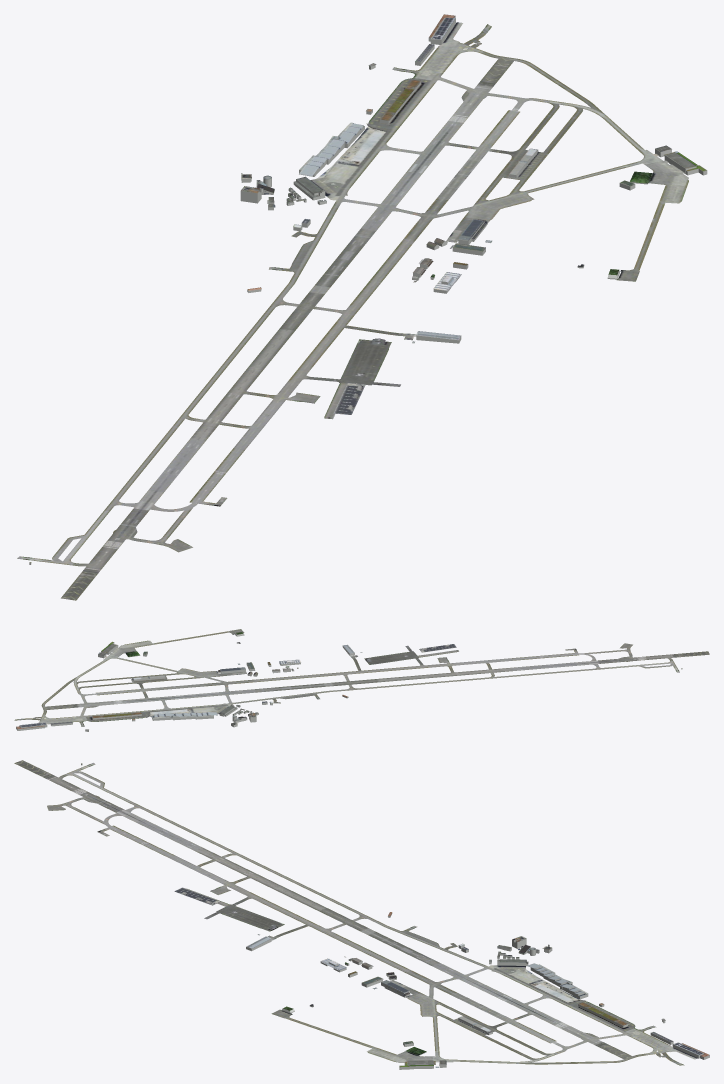
The model's file is LSMP_Airport.glb.
3 renders of one model, top to bottom at view 1: azimuth 30°, elevation 25°; view 2: azimuth 150°, elevation 25°; view 3: azimuth 270°, elevation 25°, orthographic. The views are drawn at different scales.
Visible parts, largest first — view 1: pavement_LSMP_pavement_5121_2377, pavement_LSMP_pavement_5119_2375, pavement_LSMP_pavement_5120_2376, pavement_LSMP_pavement_5122_2378, pavement_LSMP_pavement_5122_2377, pavement_LSMP_pavement_5118_2374, pavement_LSMP_pavement_5120_2375, pavement_LSMP_pavement_5122_2376, pavement_LSMP_pavement_5121_2376, pavement_LSMP_pavement_5118_2375, pavement_LSMP_pavement_5121_2378, pavement_LSMP_pavement_5117_2374 (+1 smaller); view 2: pavement_LSMP_pavement_5121_2377, pavement_LSMP_pavement_5119_2375, pavement_LSMP_pavement_5120_2376, pavement_LSMP_pavement_5122_2377, pavement_LSMP_pavement_5122_2378, pavement_LSMP_pavement_5118_2374, pavement_LSMP_pavement_5120_2375, pavement_LSMP_pavement_5121_2376, pavement_LSMP_pavement_5118_2375, pavement_LSMP_pavement_5122_2376, pavement_LSMP_pavement_5117_2374, building_80550ab6e0292526 (+4 smaller); view 3: pavement_LSMP_pavement_5121_2377, pavement_LSMP_pavement_5120_2376, pavement_LSMP_pavement_5119_2375, pavement_LSMP_pavement_5122_2378, pavement_LSMP_pavement_5122_2377, pavement_LSMP_pavement_5118_2374, pavement_LSMP_pavement_5120_2375, pavement_LSMP_pavement_5118_2375, pavement_LSMP_pavement_5122_2376, pavement_LSMP_pavement_5121_2376, pavement_LSMP_pavement_5117_2374, pavement_LSMP_pavement_5121_2378.
Part boxes in pixels (x1=…): pavement_LSMP_pavement_5121_2377: x1=310, y1=116, x2=549, y2=234; pavement_LSMP_pavement_5119_2375: x1=165, y1=361, x2=343, y2=477; pavement_LSMP_pavement_5120_2376: x1=255, y1=237, x2=402, y2=353; pavement_LSMP_pavement_5122_2378: x1=392, y1=22, x2=567, y2=114; pavement_LSMP_pavement_5122_2377: x1=452, y1=87, x2=668, y2=187; pavement_LSMP_pavement_5118_2374: x1=66, y1=477, x2=227, y2=566; pavement_LSMP_pavement_5120_2375: x1=304, y1=333, x2=416, y2=389; pavement_LSMP_pavement_5122_2376: x1=640, y1=164, x2=688, y2=256; pavement_LSMP_pavement_5121_2376: x1=394, y1=198, x2=644, y2=278; pavement_LSMP_pavement_5118_2375: x1=109, y1=436, x2=221, y2=504; pavement_LSMP_pavement_5121_2378: x1=359, y1=80, x2=424, y2=137; pavement_LSMP_pavement_5117_2374: x1=17, y1=540, x2=102, y2=600; pavement_LSMP_pavement_5121_2377: x1=117, y1=668, x2=257, y2=714; pavement_LSMP_pavement_5119_2375: x1=406, y1=650, x2=545, y2=682; pavement_LSMP_pavement_5120_2376: x1=262, y1=660, x2=395, y2=699; pavement_LSMP_pavement_5122_2377: x1=58, y1=652, x2=165, y2=704; pavement_LSMP_pavement_5122_2378: x1=14, y1=690, x2=114, y2=726; pavement_LSMP_pavement_5118_2374: x1=546, y1=643, x2=666, y2=669; pavement_LSMP_pavement_5120_2375: x1=350, y1=645, x2=425, y2=670; pavement_LSMP_pavement_5121_2376: x1=181, y1=630, x2=272, y2=683; pavement_LSMP_pavement_5118_2375: x1=518, y1=655, x2=600, y2=676; pavement_LSMP_pavement_5122_2376: x1=112, y1=633, x2=212, y2=654; pavement_LSMP_pavement_5117_2374: x1=649, y1=651, x2=709, y2=672; building_80550ab6e0292526: x1=152, y1=712, x2=217, y2=718; pavement_LSMP_pavement_5121_2377: x1=425, y1=964, x2=568, y2=1024; pavement_LSMP_pavement_5120_2376: x1=281, y1=903, x2=424, y2=963; pavement_LSMP_pavement_5119_2375: x1=137, y1=842, x2=281, y2=902; pavement_LSMP_pavement_5122_2378: x1=568, y1=1025, x2=697, y2=1065; pavement_LSMP_pavement_5122_2377: x1=425, y1=1025, x2=568, y2=1064; pavement_LSMP_pavement_5118_2374: x1=47, y1=781, x2=137, y2=842; pavement_LSMP_pavement_5120_2375: x1=204, y1=903, x2=281, y2=940; pavement_LSMP_pavement_5118_2375: x1=137, y1=804, x2=214, y2=842; pavement_LSMP_pavement_5122_2376: x1=304, y1=1024, x2=424, y2=1062; pavement_LSMP_pavement_5121_2376: x1=281, y1=964, x2=424, y2=1024; pavement_LSMP_pavement_5117_2374: x1=14, y1=760, x2=101, y2=781; pavement_LSMP_pavement_5121_2378: x1=568, y1=994, x2=634, y2=1024.
Size of the model in its own units: 2540 by 38.23 by 2421.
3 materials, 2 textured.
